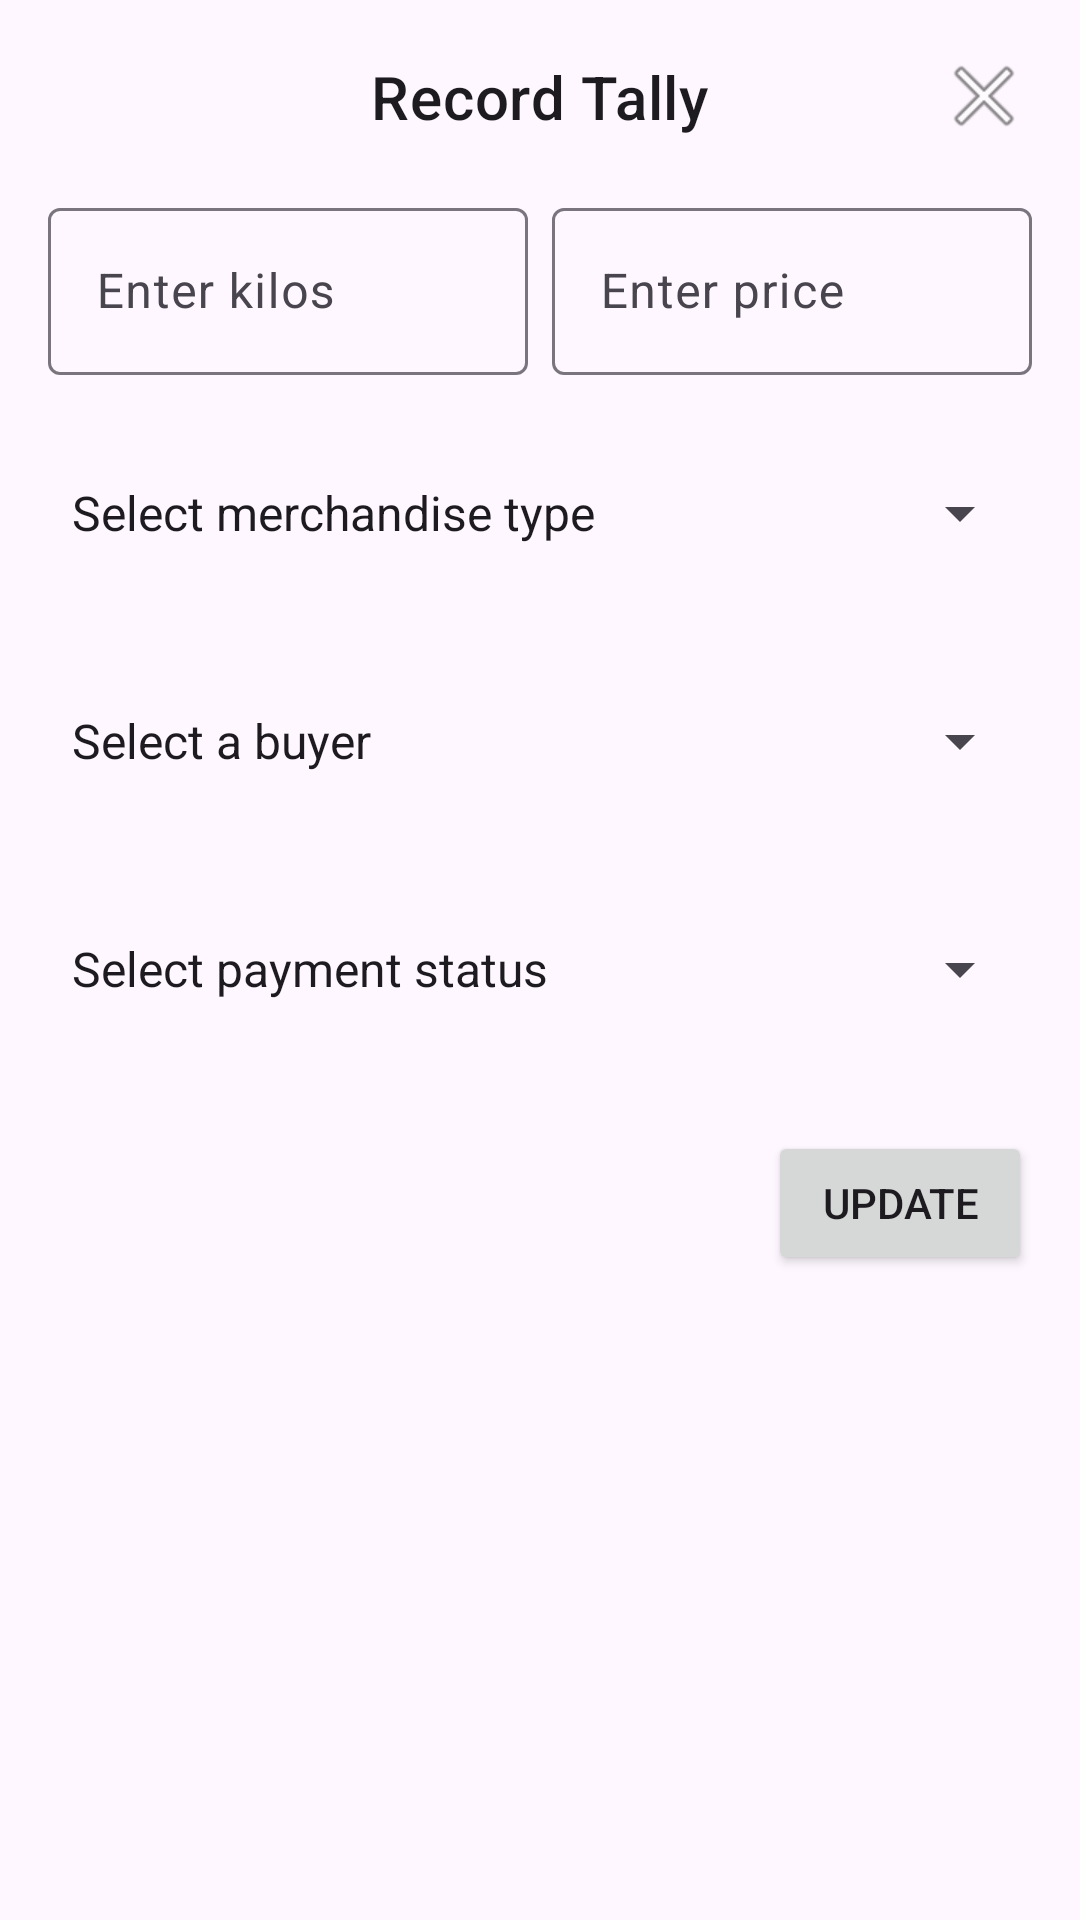

Icons on this 1080 x 1920 Android screen, each with its box as (x1, y1, x2, y2):
close: (954, 66, 1014, 126)
